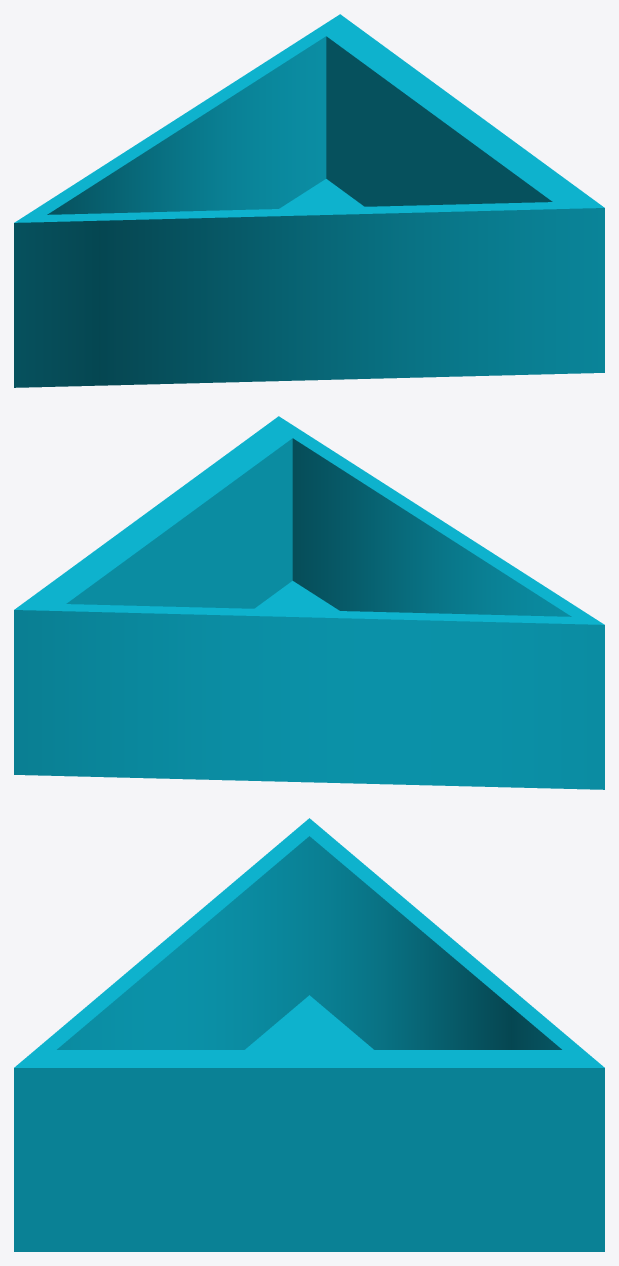
The model's file is Triangle.fbx.
The picture shows the model from 3 angles, top to bottom: view 1: azimuth 30°, elevation 25°; view 2: azimuth 150°, elevation 25°; view 3: azimuth 270°, elevation 25°; orthographic projection. The views are drawn at different scales.
Visible parts, largest first — view 1: pCube27; view 2: pCube27; view 3: pCube27.
Boxes of the visible parts, x1,y1,x2,y2 form: pCube27: [14, 14, 604, 387]; pCube27: [14, 416, 604, 789]; pCube27: [14, 818, 604, 1251].
Bounding box in the file's own units: 3.03 × 1.04 × 3.03.
